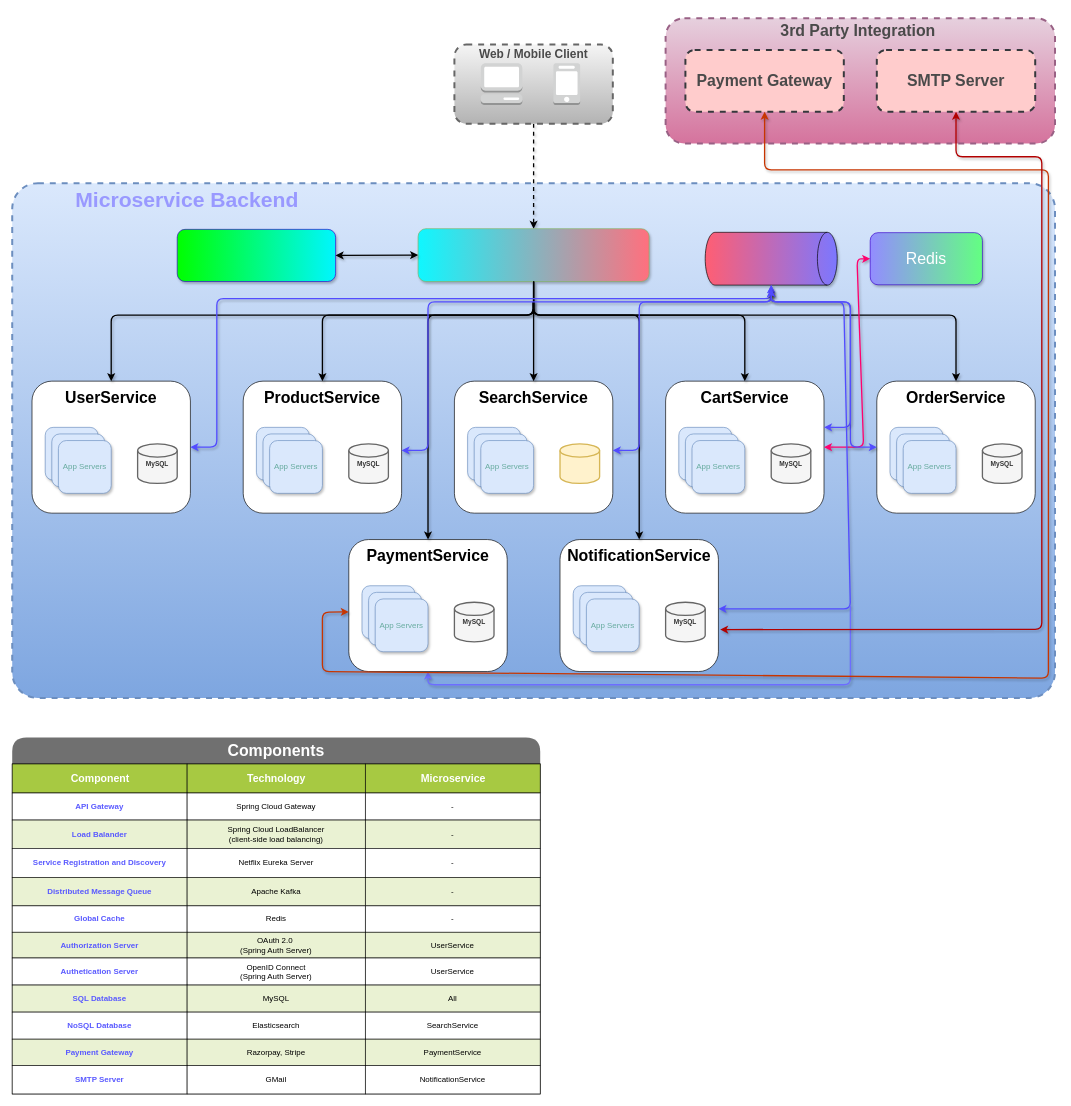
The diagram is 1071 pixels wide and 1106 high, and some of its shapes have lost their labels. The centre of each missing label's shape, as x and y in pixels:
"API Gateway + Load Balancer" belongs at (x=534, y=255).
"Kafka" belongs at (x=772, y=259).
"NoSQL" belongs at (x=579, y=463).
"Service Discovery" belongs at (x=257, y=256).
